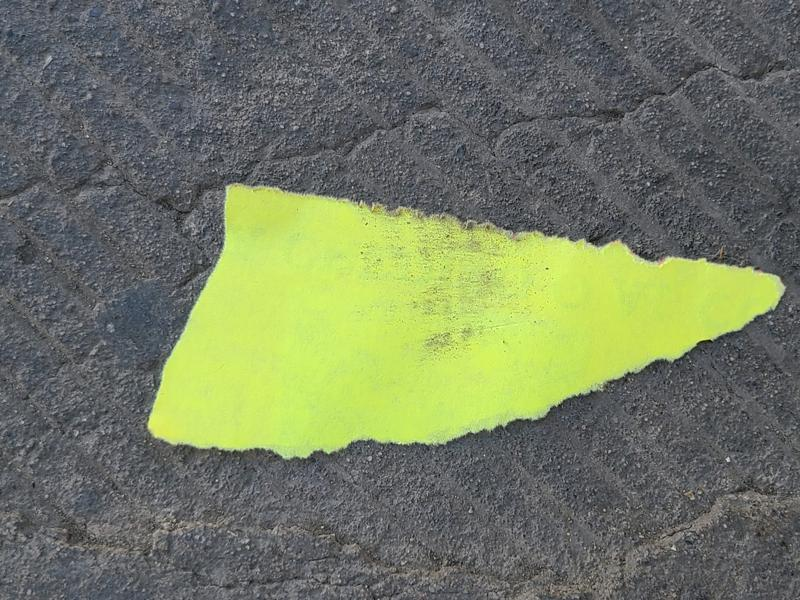papel: (145, 185, 785, 460)
